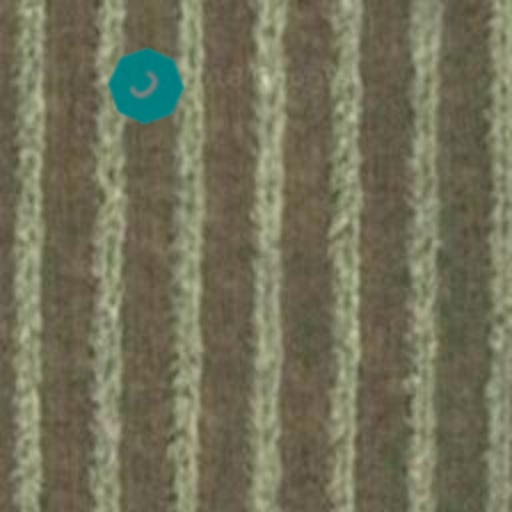octagon: (90, 30, 202, 142)
